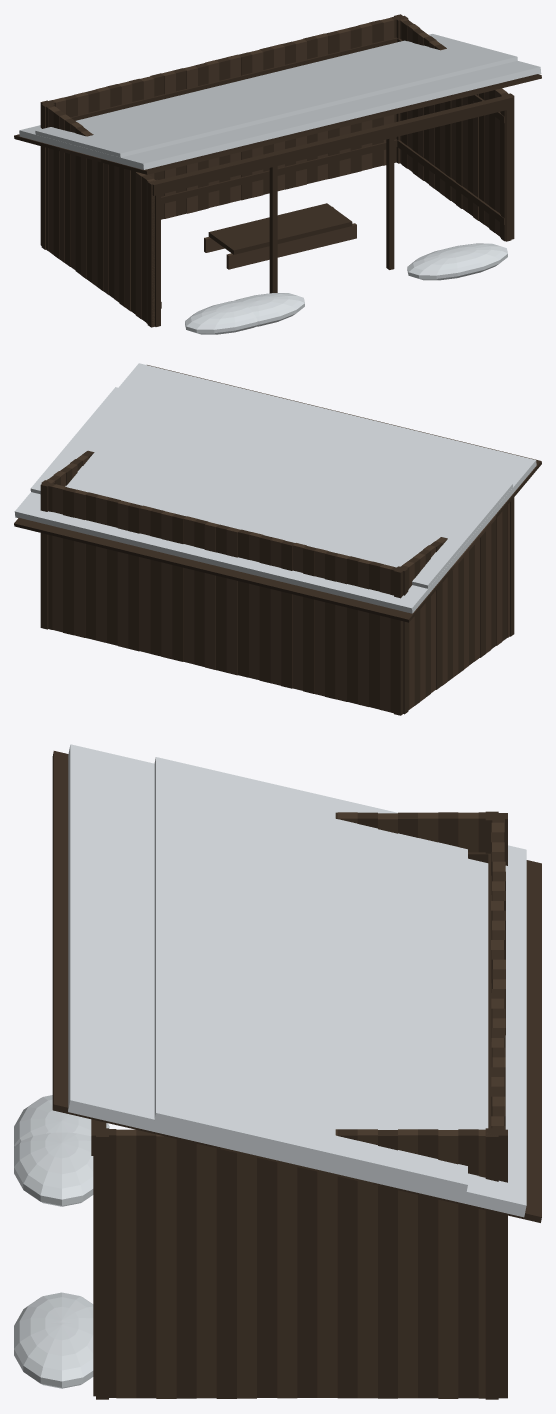
File: dragonspine-sled-shed.glb
3 views of the same model, one above another, from view 1: azimuth 30°, elevation 25°; view 2: azimuth 150°, elevation 25°; view 3: azimuth 270°, elevation 25° (orthographic). The views are drawn at different scales.
Parts seen in each view (by area): view 1: Body_WoodDark, Body_Snow, Body_Wood; view 2: Body_Snow, Body_WoodDark, Body_Wood; view 3: Body_Snow, Body_WoodDark, Body_Wood.
Part boxes in pixels (left/top/right/bottom): Body_WoodDark: left=14, top=14, right=541, bottom=327; Body_Snow: left=19, top=34, right=541, bottom=334; Body_Wood: left=48, top=16, right=507, bottom=326; Body_Snow: left=14, top=363, right=536, bottom=613; Body_WoodDark: left=14, top=365, right=541, bottom=715; Body_Wood: left=43, top=450, right=509, bottom=712; Body_Snow: left=14, top=744, right=526, bottom=1388; Body_WoodDark: left=52, top=751, right=541, bottom=1399; Body_Wood: left=116, top=812, right=505, bottom=1398.
Size of the model in its own units: 8 by 3.5 by 5.
